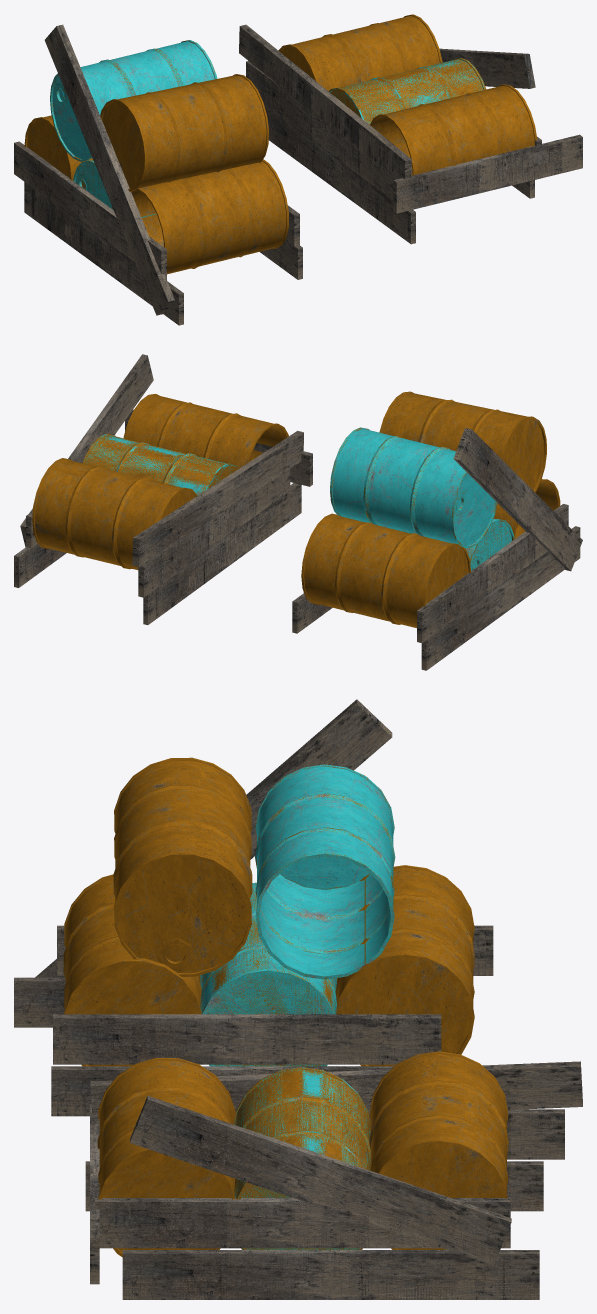
Rendered from Barrel_Waste.fbx.
3 renders of one model, top to bottom at view 1: azimuth 30°, elevation 25°; view 2: azimuth 150°, elevation 25°; view 3: azimuth 270°, elevation 25°, orthographic. The views are drawn at different scales.
Parts seen in each view (by area): view 1: Group1, Group2; view 2: Group1, Group2; view 3: Group1, Group2.
Part boxes in pixels (box(x1,y1,x2,y2)): Group1: box(14, 24, 302, 325); Group2: box(239, 14, 582, 244); Group1: box(292, 391, 582, 670); Group2: box(14, 354, 312, 624); Group1: box(14, 699, 493, 1116); Group2: box(85, 1051, 582, 1299).
Size of the model in its own units: 2932 by 1388 by 2237.
